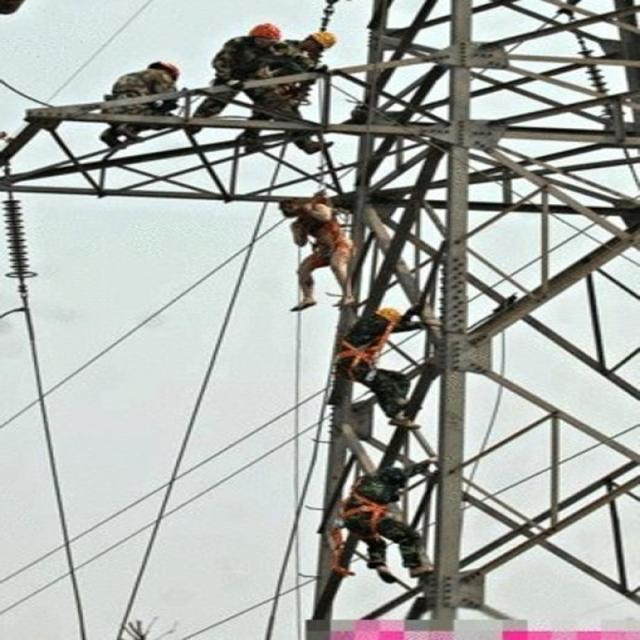non-critical vegetation: (270, 2, 634, 628)
